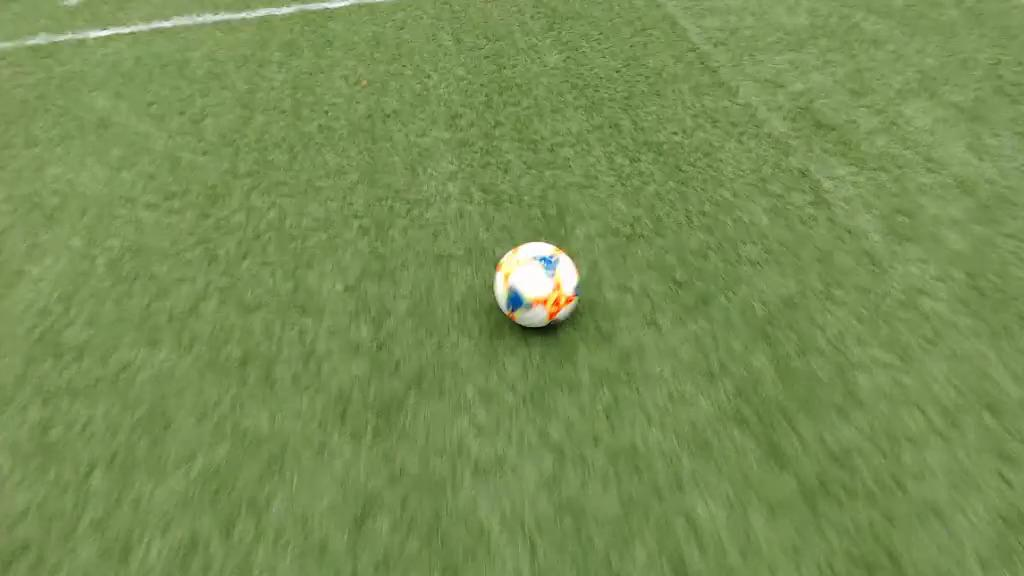ball: (495, 241, 580, 330)
